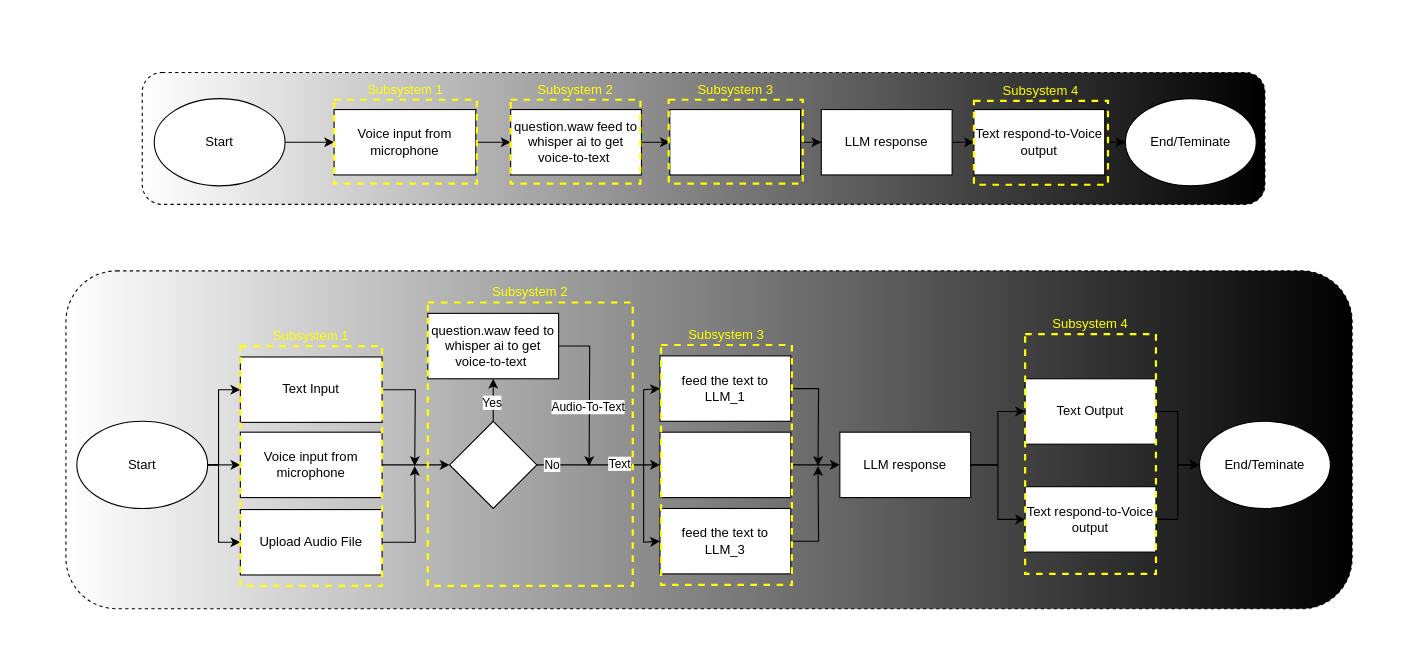
The diagram is 1412 pixels wide and 659 high, and some of its shapes have lost their labels. Here are the shapes that lost their labels. From the top down, the box of each, then its label:
(141, 71, 1265, 204): Approach 1 (Less Reliable System/Pipeline)
(669, 108, 801, 175): feed the text to LLM
(65, 270, 1352, 609): Approach 2 (Better and More Reliable System/Pipeline)
(449, 420, 537, 508): If Audio Input
(659, 431, 791, 498): feed the text to LLM_2
